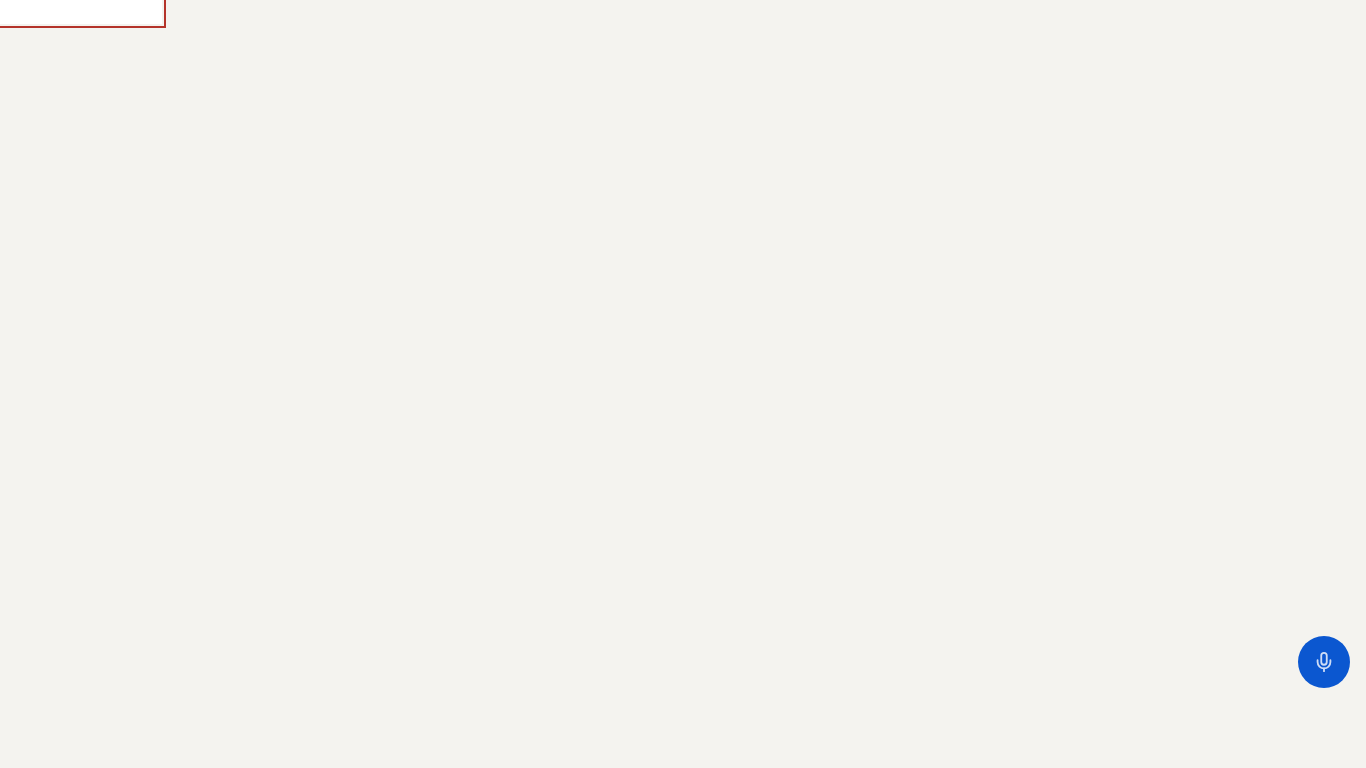
Scenario: 郵便番号の住所検索 › 住所が 0 件でも 1 行知らせて、次の欄の録音へ進む
The image size is (1366, 768).
What coordinates should you click on to do the following:
click the button named "音声入力を開始"
I would click on:
 (1324, 662)
Its box is [1298,636,1350,688].
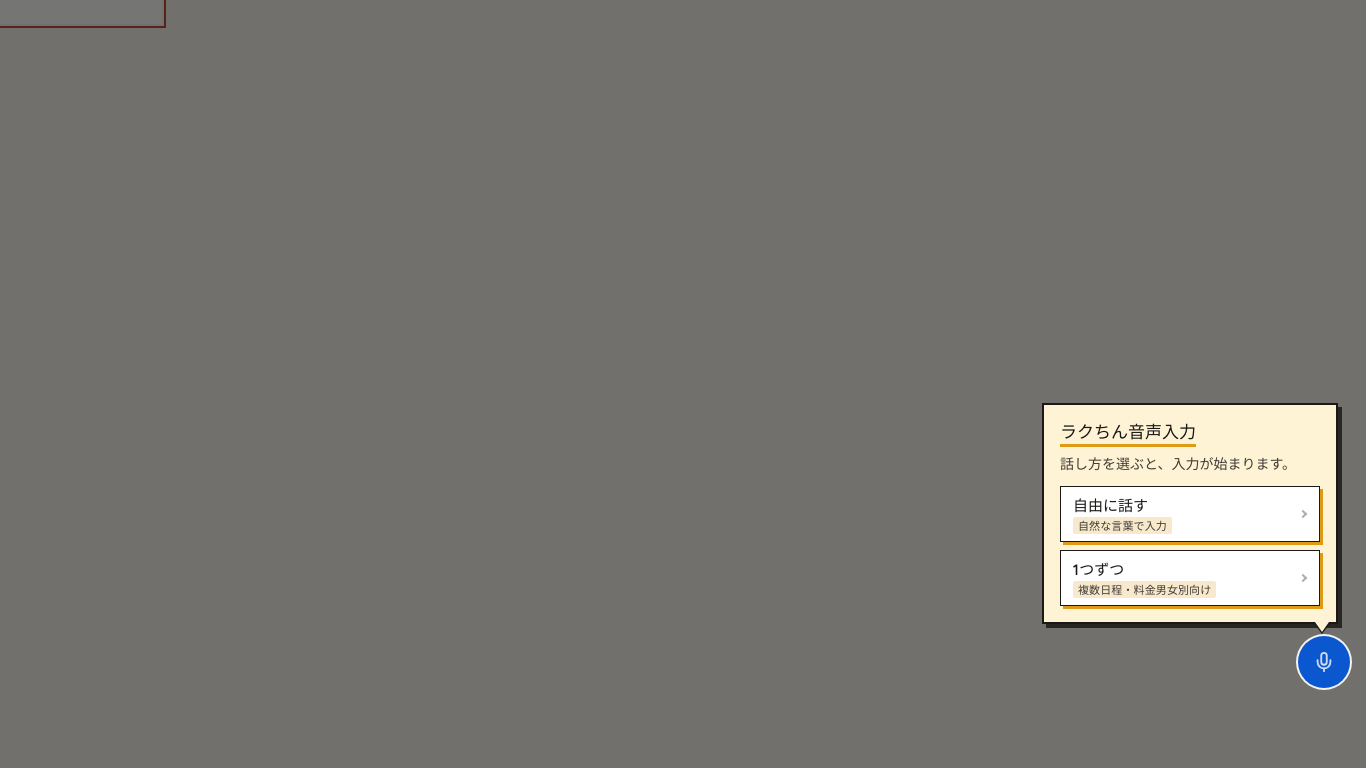
What coordinates should you click on to do the following:
click the button "1つずつ 複数日程・料金男女別向け"
I would click on:
 (1099, 569)
Its box is [1060,550,1320,606].
Wait 1550 ms
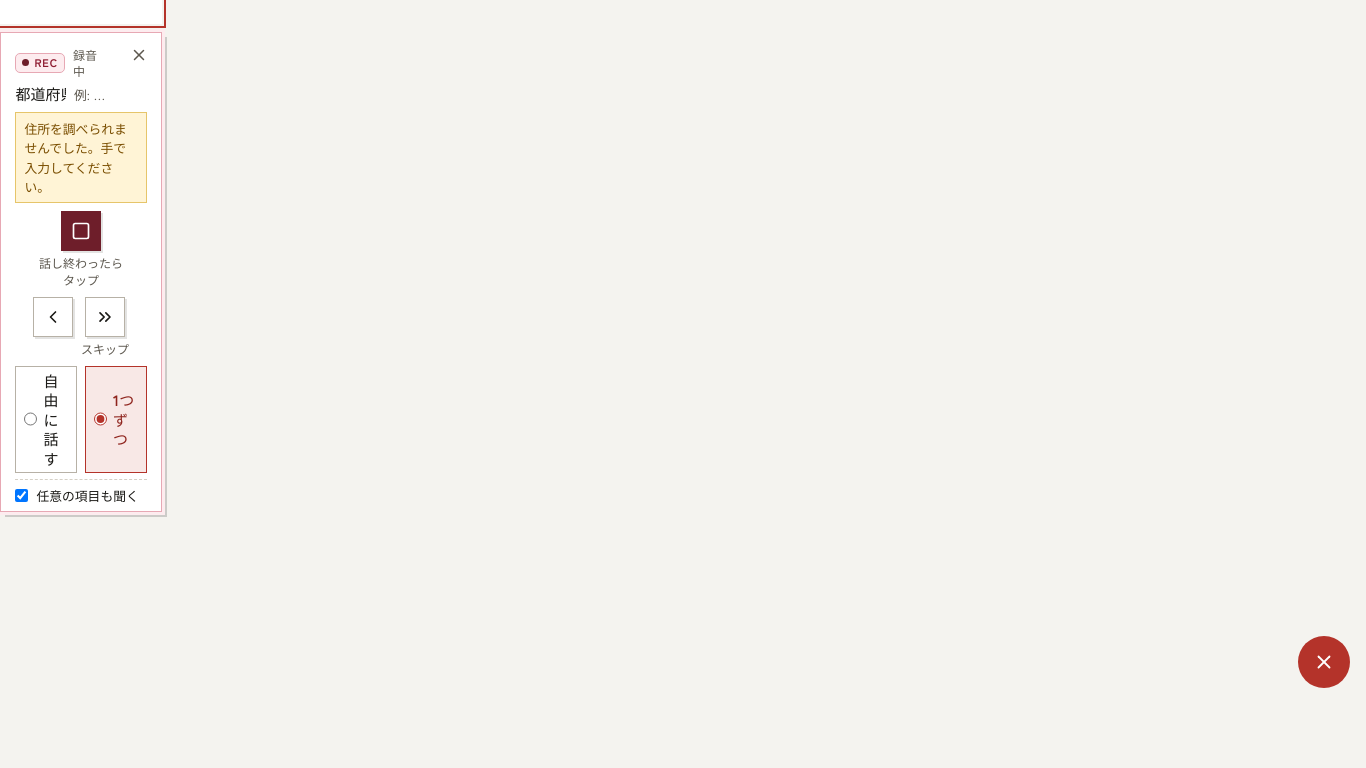
Now the text "住所を調べられませんでした。手で入力してください。" is shown, box [15,112,147,203]
Now the text "都道府県は？" is shown, box [15,85,66,103]
Now the button named "録音を停止" is shown, box [61,211,101,251]
